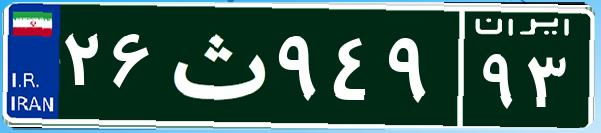2: (57, 26, 110, 107)
3: (525, 38, 570, 115)
4: (330, 28, 385, 110)
6: (110, 28, 158, 105)
9: (385, 28, 445, 110), (273, 28, 330, 110), (475, 38, 525, 113)
ث: (158, 15, 273, 115)
